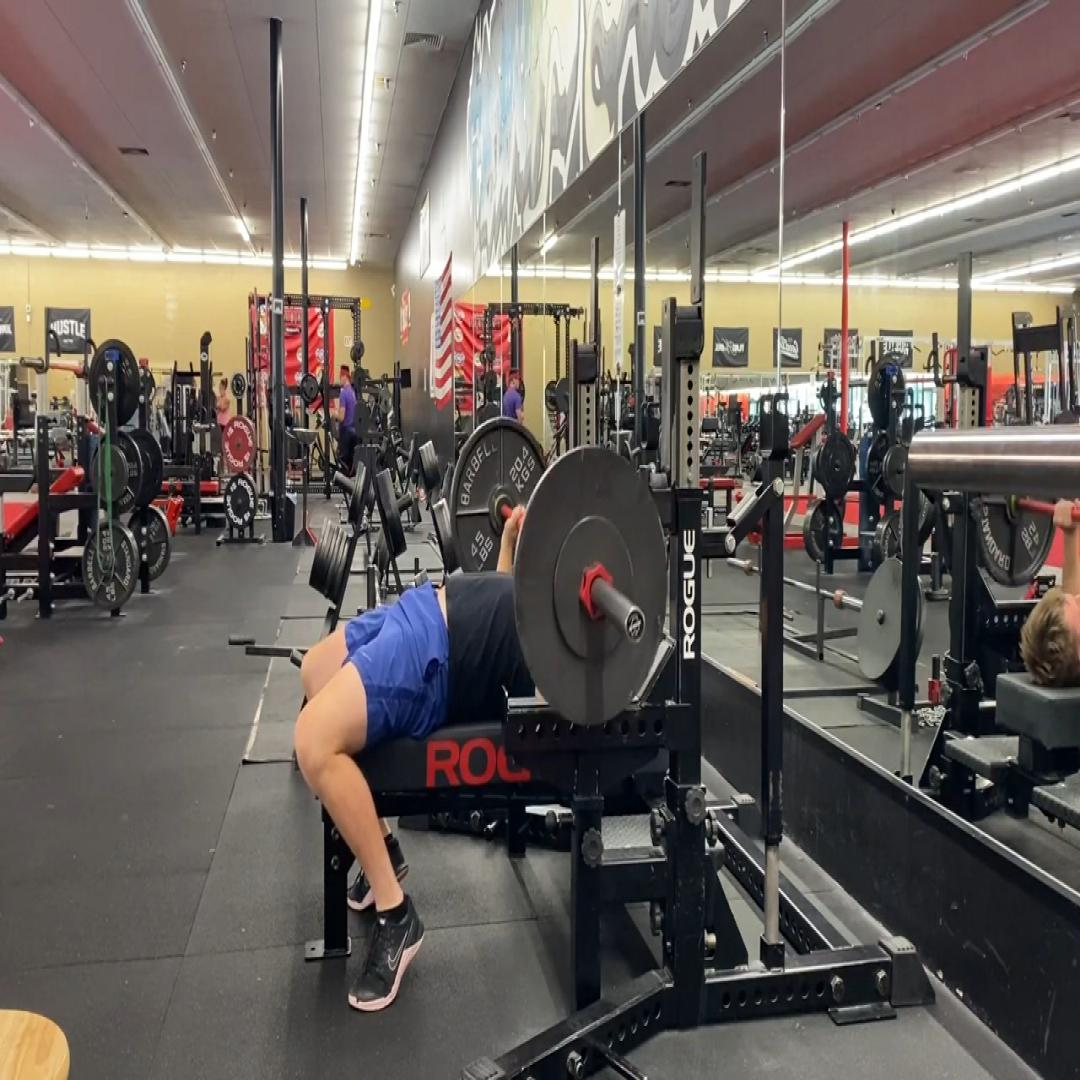Bar: (624, 606, 645, 644)
Barbell: (514, 447, 666, 725)
